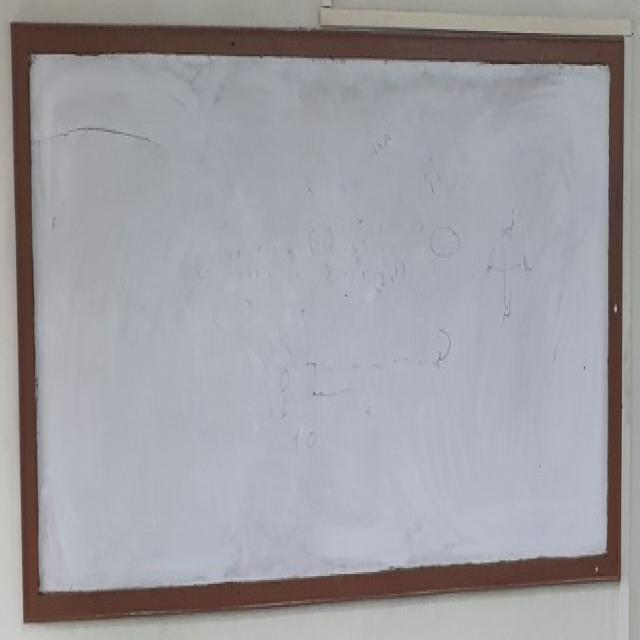White-board: (16, 50, 617, 608)
